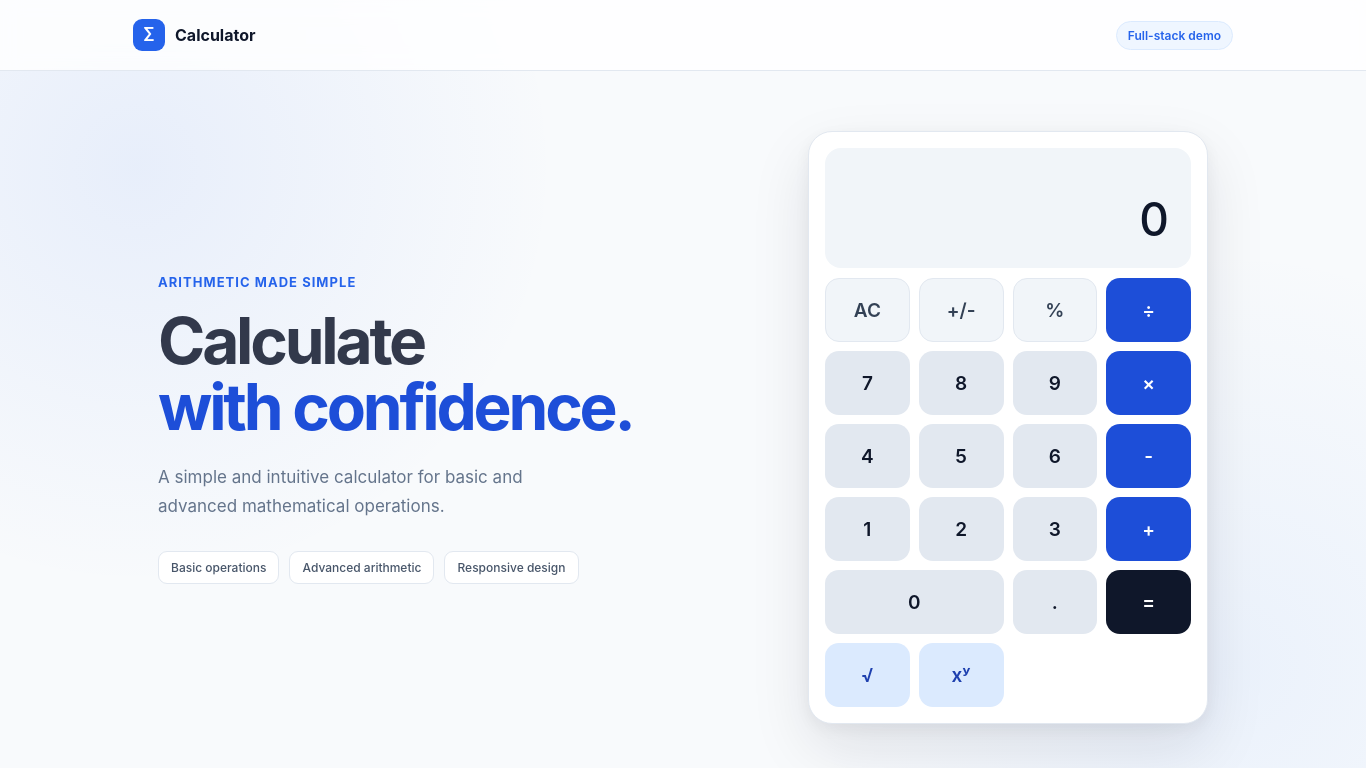
it: Calculator Component › inputs numbers correctly
Click the button "7" at {"x": 867, "y": 383}, box [825,351,910,415]
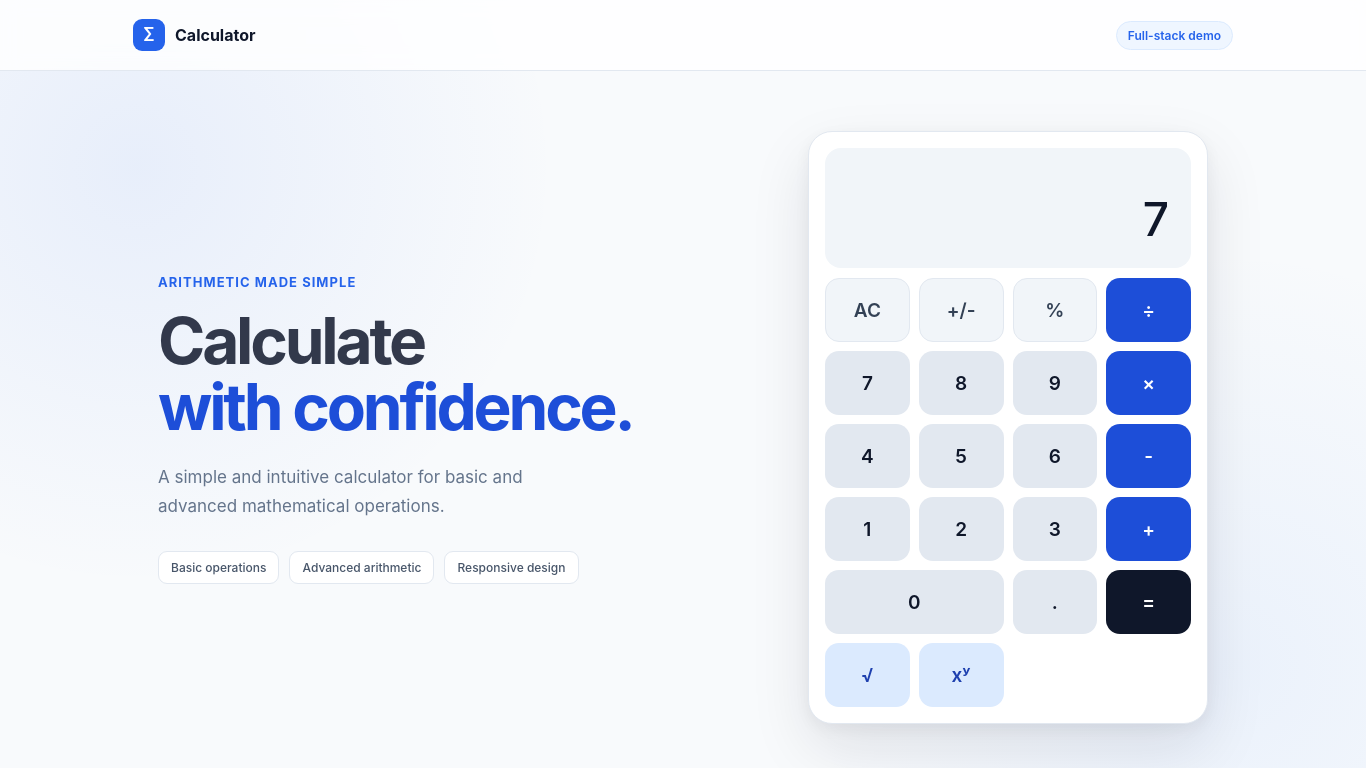
Expected: the field showing "7" is shown, [845,190,1171,248]
